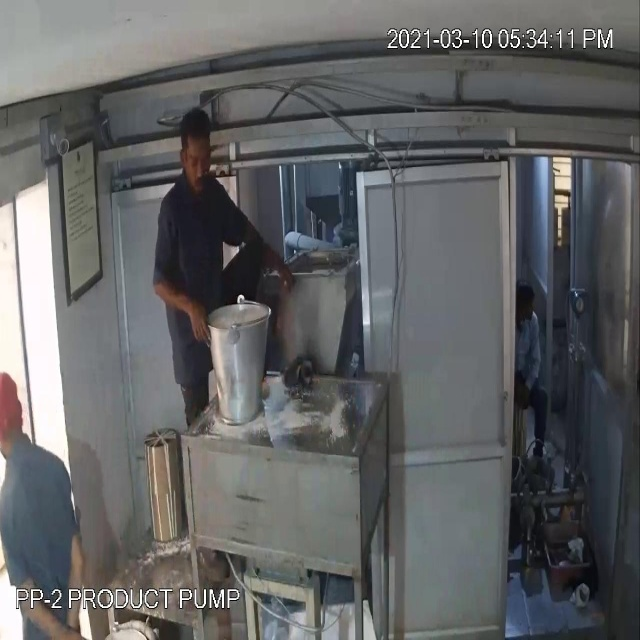Sin_guantes: (153, 244, 212, 362)
